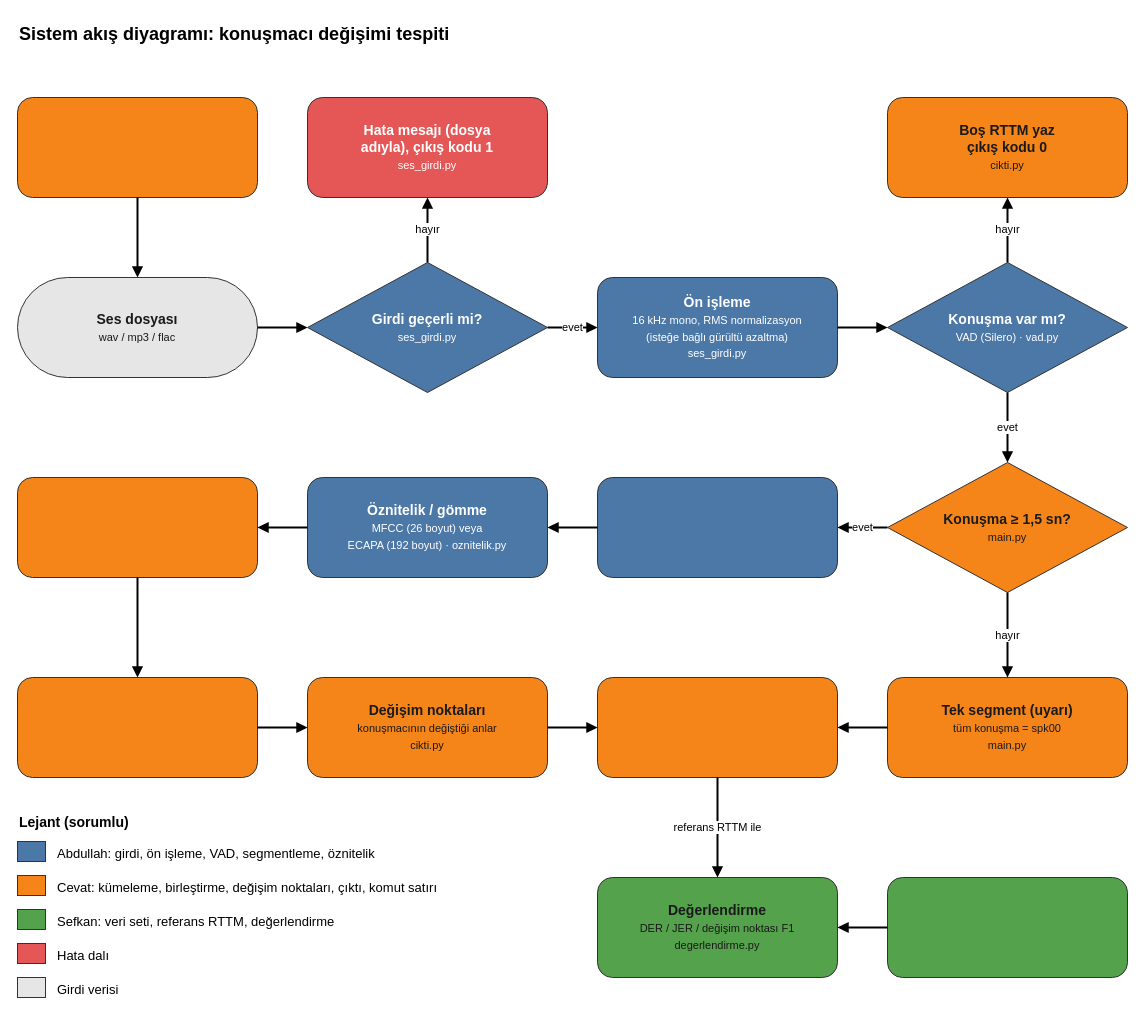
This 1145x1016 diagram has some shape labels left out. Each missing label, with the box of its shape:
Komut satırı main.py çıkış kodu: 0 / 1 / 2: (16, 96, 258, 198)
Kümeleme konuşmacı sayısı tahmini dahil kumeleme.py: (16, 476, 258, 578)
Segment birleştirme + kısa segment yumuşatma cikti.py: (16, 676, 258, 778)
Segmentleme 1,5 sn pencere, 0,75 sn kaydırma oznitelik.py: (596, 476, 838, 578)
Veri seti + referans RTTM VoxConverse v0.3 dev: (886, 876, 1128, 978)
Çıktı RTTM, tablo, süre özeti, zaman çizelgesi · cikti.py: (596, 676, 838, 778)
